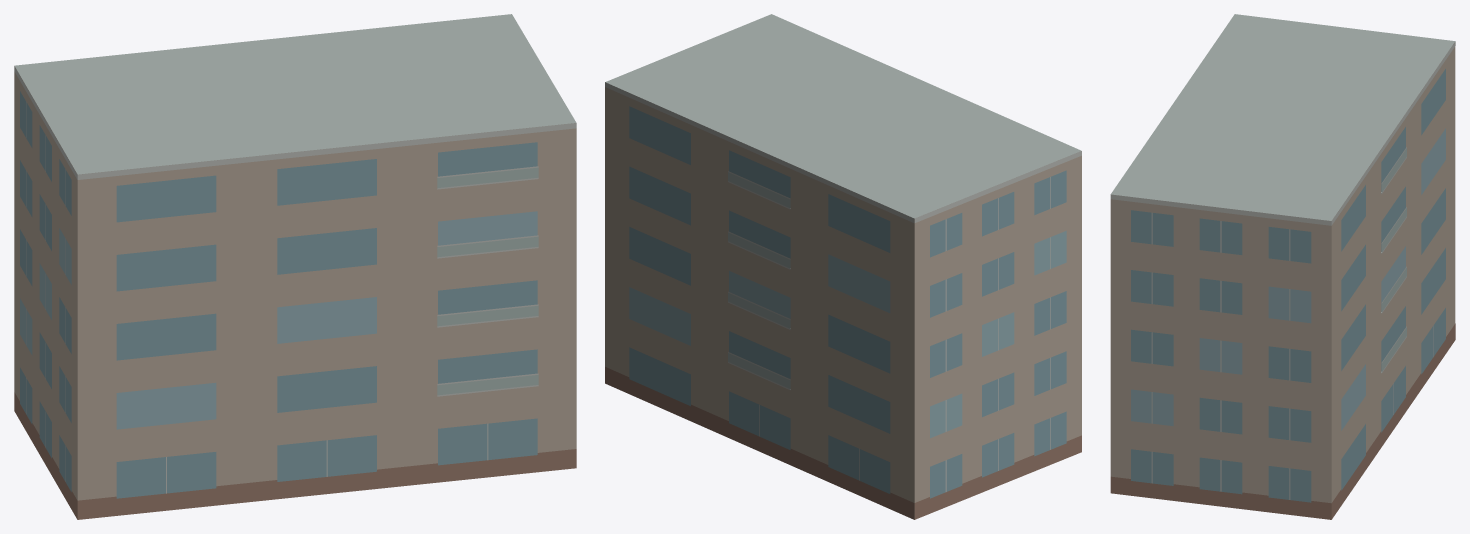
File: survey-upis-32880280.glb
3 views of the same model, side by side, from view 1: azimuth 30°, elevation 25°; view 2: azimuth 150°, elevation 25°; view 3: azimuth 270°, elevation 25° (orthographic). The views are drawn at different scales.
Visible parts, largest first — view 1: survey-upis-32880280.tmp; view 2: survey-upis-32880280.tmp; view 3: survey-upis-32880280.tmp.
Part boxes in pixels (box(x1,y1,x2,y2)): survey-upis-32880280.tmp: box(14, 14, 576, 519); survey-upis-32880280.tmp: box(605, 14, 1081, 519); survey-upis-32880280.tmp: box(1110, 14, 1455, 519).
Size of the model in its own units: 22.75 by 15.3 by 16.01.
